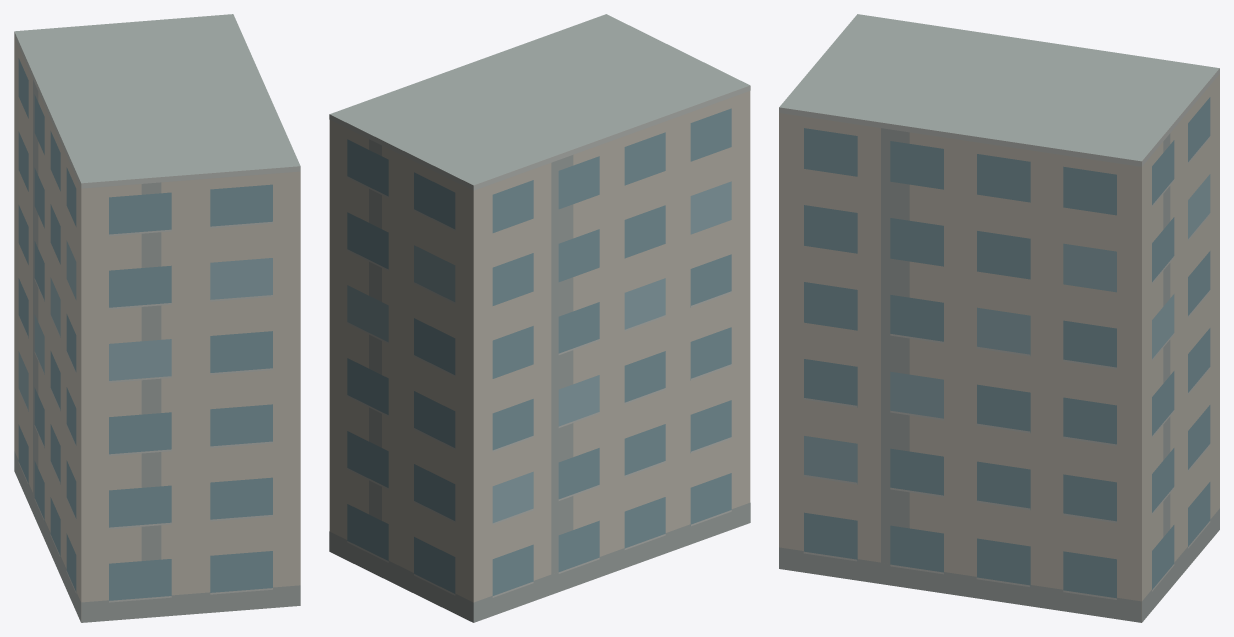
Rendered from survey-upis-32891787.glb.
3 renders of one model, left to right at view 1: azimuth 30°, elevation 25°; view 2: azimuth 150°, elevation 25°; view 3: azimuth 270°, elevation 25°, orthographic. The views are drawn at different scales.
Parts seen in each view (by area): view 1: survey-upis-32891787.tmp; view 2: survey-upis-32891787.tmp; view 3: survey-upis-32891787.tmp.
Boxes of the visible parts, x1=… form: survey-upis-32891787.tmp: x1=14, y1=14, x2=300, y2=622; survey-upis-32891787.tmp: x1=329, y1=14, x2=750, y2=622; survey-upis-32891787.tmp: x1=779, y1=14, x2=1219, y2=622.
Bounding box in the file's own units: 13.77 × 20.1 × 17.41.
